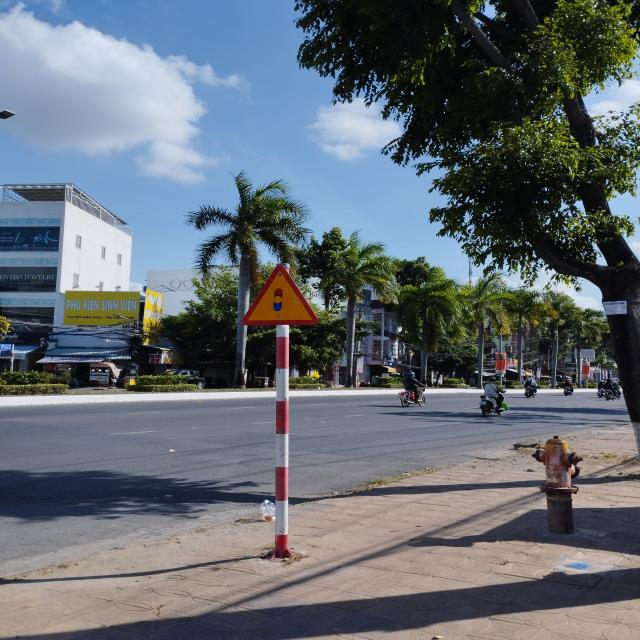Duong_Co_Go_Giam_Toc: (241, 263, 320, 326)
